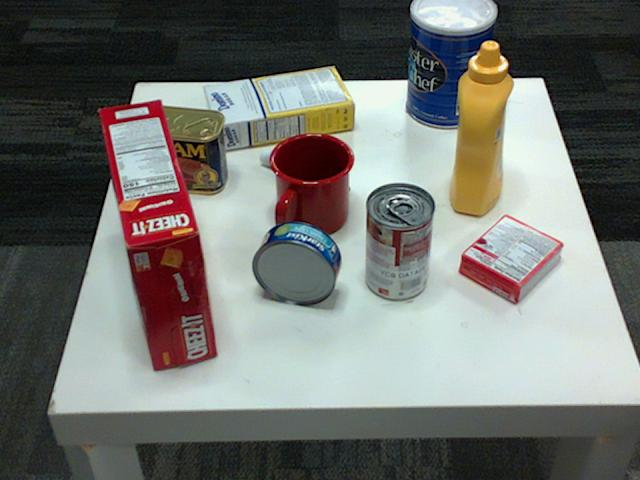cracker_box: (97, 98, 218, 368)
gelatin_box: (459, 215, 564, 303)
large_marker: (258, 151, 348, 195)
master_chef_can: (404, 0, 495, 127)
mug: (269, 129, 356, 233)
mustard_bottle: (448, 42, 513, 214)
potted_meat_can: (130, 106, 228, 193)
sugar_box: (204, 65, 355, 148)
tomato_soup_can: (365, 182, 435, 299)
tuna_fish_can: (253, 221, 342, 304)
